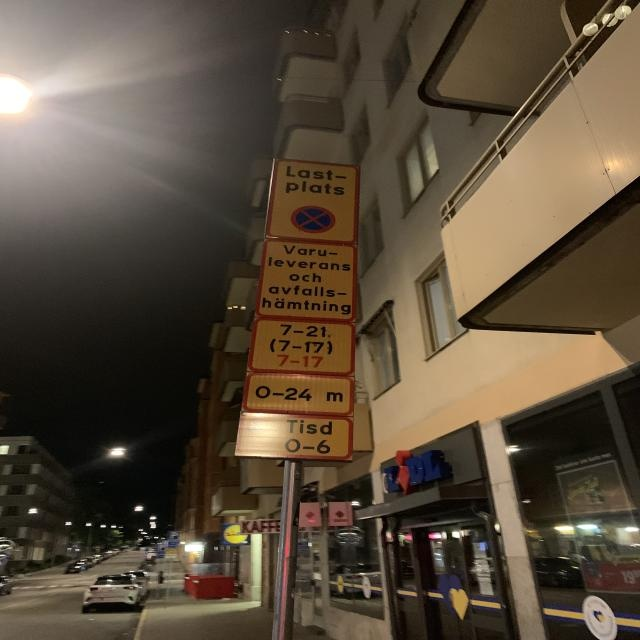lastplats: (265, 154, 358, 244)
